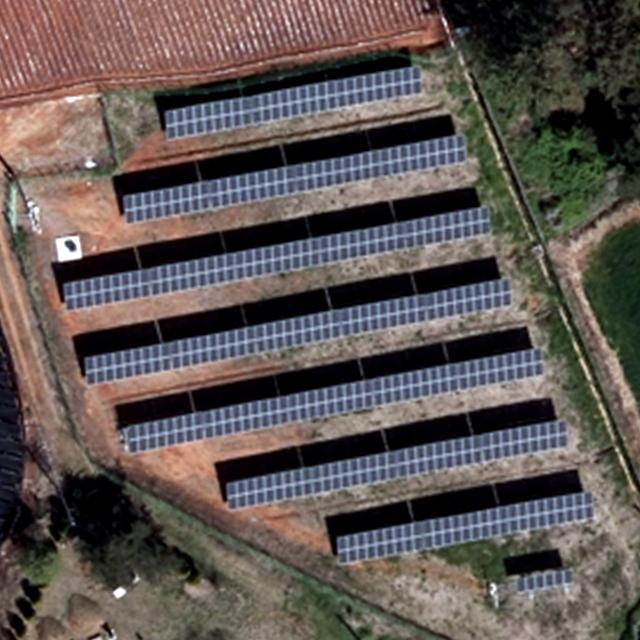panel: (61, 204, 491, 317), (120, 345, 546, 453), (85, 279, 514, 386), (121, 130, 470, 229), (230, 418, 570, 504), (163, 64, 424, 142), (333, 489, 596, 560), (515, 567, 573, 589)
